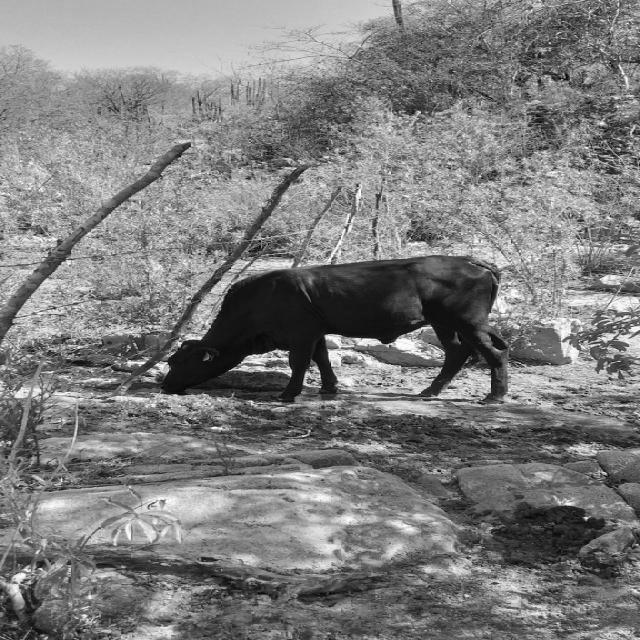cow: (162, 256, 508, 402)
